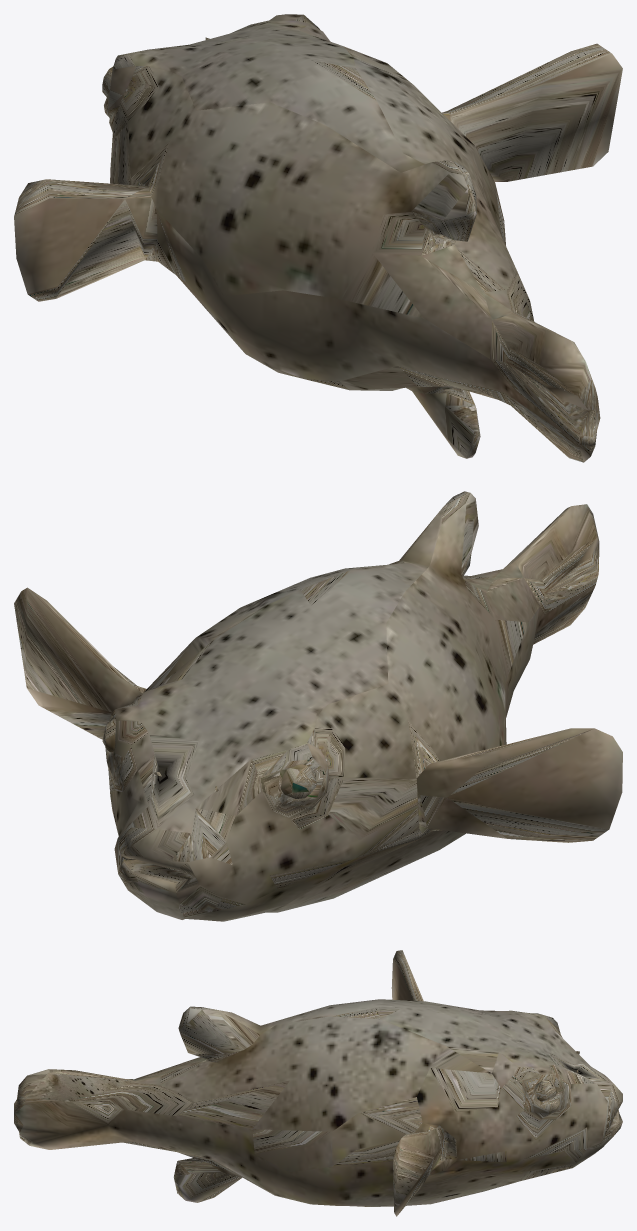
The model's file is kogelvis-ver.glb.
3 views of the same model, one above another, from view 1: azimuth 30°, elevation 25°; view 2: azimuth 150°, elevation 25°; view 3: azimuth 270°, elevation 25° (orthographic). The views are drawn at different scales.
Parts seen in each view (by area): view 1: tripo_node_32c1a83e-8d33-4b57-b084-7adb422e5637; view 2: tripo_node_32c1a83e-8d33-4b57-b084-7adb422e5637; view 3: tripo_node_32c1a83e-8d33-4b57-b084-7adb422e5637.
Part boxes in pixels (<box>): tripo_node_32c1a83e-8d33-4b57-b084-7adb422e5637: <box>14,14,622,462</box>; tripo_node_32c1a83e-8d33-4b57-b084-7adb422e5637: <box>14,491,622,921</box>; tripo_node_32c1a83e-8d33-4b57-b084-7adb422e5637: <box>14,950,622,1216</box>.
Bounding box in the file's own units: 0.668 × 0.3 × 0.847.
Materials: 1 (1 with a texture image).
